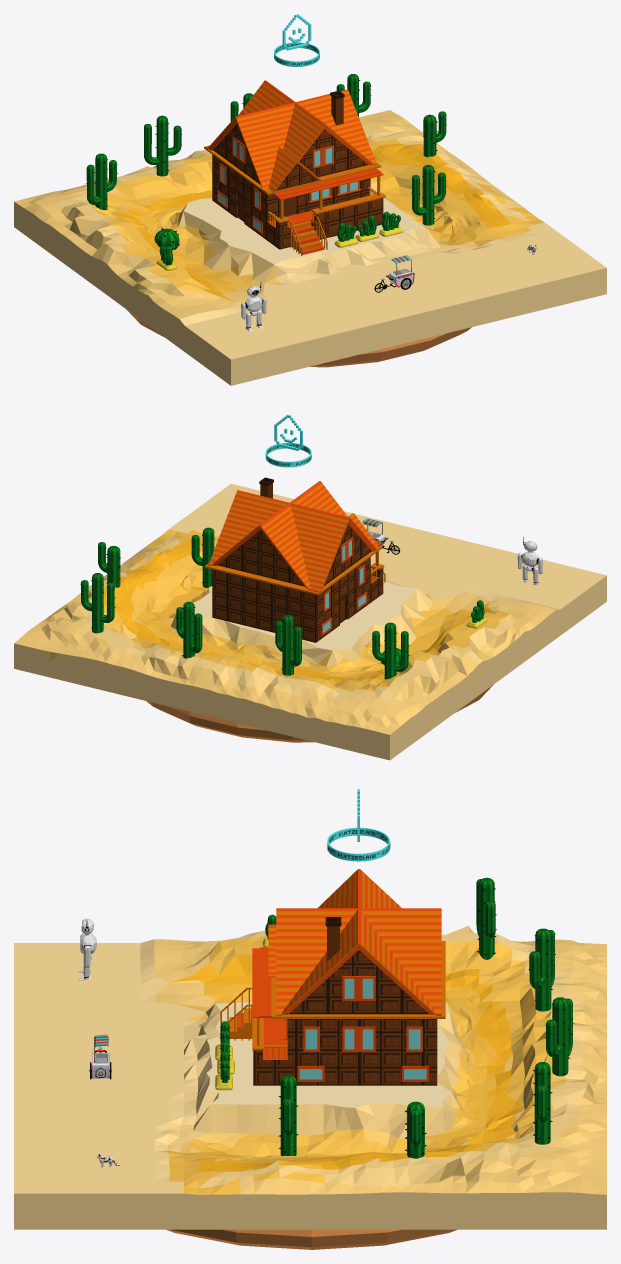
3 renders of one model, top to bottom at view 1: azimuth 30°, elevation 25°; view 2: azimuth 150°, elevation 25°; view 3: azimuth 270°, elevation 25°, orthographic. The views are drawn at different scales.
Visible parts, largest first — view 1: Cube.001, Cube, UNDERGROUND_PIZZA, Cylinder.044, Cylinder.037, Cylinder.045, TYPE_PREMIUM, Cylinder.038, OBJRANDOM_PLATZEEBOT, VEHICLES_SNOWBAL_BIKE, Cylinder.042; view 2: Cube.001, Cube, UNDERGROUND_PIZZA, Cylinder.045, Cylinder.042, Cylinder.044, Cylinder.043, TYPE_PREMIUM, Cylinder.037, Cylinder.038, OBJRANDOM_PLATZEEBOT; view 3: Cube.001, Cube, UNDERGROUND_PIZZA, Cylinder.044, Cylinder.043, Cylinder.045, Cylinder.042, Cylinder.037, TYPE_PREMIUM, Cylinder.038, VEHICLES_SNOWBAL_BIKE, OBJRANDOM_PLATZEEBOT.
Boxes of the visible parts, <box> form: Cube.001: <box>14,110,606,385</box>; Cube: <box>204,80,385,255</box>; UNDERGROUND_PIZZA: <box>126,309,471,367</box>; Cylinder.044: <box>144,115,181,176</box>; Cylinder.037: <box>411,165,446,225</box>; Cylinder.045: <box>86,153,117,209</box>; TYPE_PREMIUM: <box>274,14,319,66</box>; Cylinder.038: <box>423,111,446,157</box>; OBJRANDOM_PLATZEEBOT: <box>241,281,266,331</box>; VEHICLES_SNOWBAL_BIKE: <box>374,255,414,292</box>; Cylinder.042: <box>336,74,371,116</box>; Cube.001: <box>14,483,606,760</box>; Cube: <box>204,477,385,642</box>; UNDERGROUND_PIZZA: <box>146,685,492,742</box>; Cylinder.045: <box>372,622,409,679</box>; Cylinder.042: <box>80,573,115,633</box>; Cylinder.044: <box>275,615,301,675</box>; Cylinder.043: <box>176,601,202,658</box>; TYPE_PREMIUM: <box>265,414,311,467</box>; Cylinder.037: <box>191,527,218,587</box>; Cylinder.038: <box>98,542,120,587</box>; OBJRANDOM_PLATZEEBOT: <box>517,536,542,585</box>; Cube.001: <box>14,926,606,1229</box>; Cube: <box>220,869,445,1085</box>; UNDERGROUND_PIZZA: <box>166,1229,457,1249</box>; Cylinder.044: <box>528,928,555,1011</box>; Cylinder.043: <box>545,997,573,1076</box>; Cylinder.045: <box>476,877,496,959</box>; Cylinder.042: <box>532,1062,552,1144</box>; Cylinder.037: <box>278,1075,298,1155</box>; TYPE_PREMIUM: <box>327,789,390,861</box>; Cylinder.038: <box>405,1101,426,1158</box>; VEHICLES_SNOWBAL_BIKE: <box>89,1034,111,1079</box>; OBJRANDOM_PLATZEEBOT: <box>78,918,96,980</box>.
Size of the model in its own units: 4002 by 2649 by 4001.
Materials: 36 (4 with a texture image).
